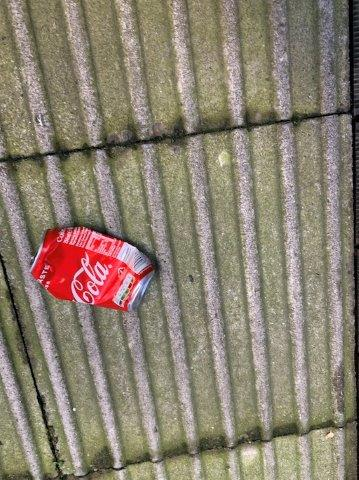kaleng: (30, 228, 154, 308)
